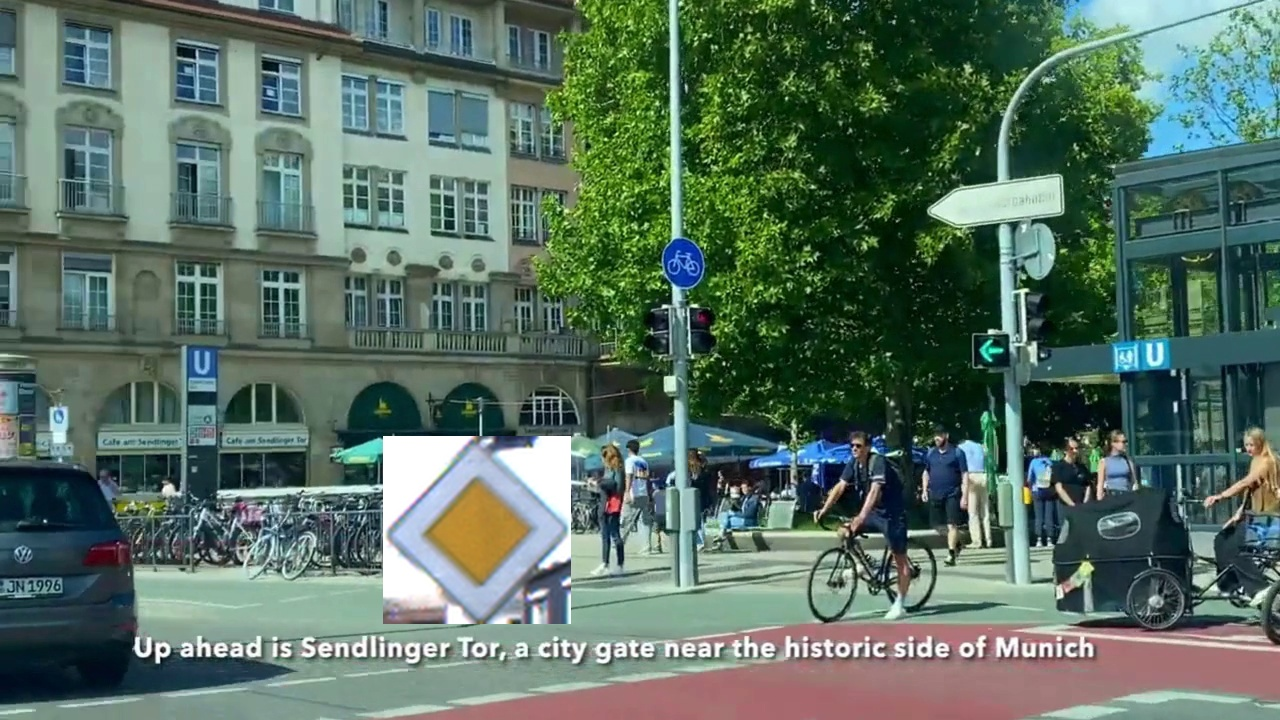Priority road: (383, 436, 571, 624)
